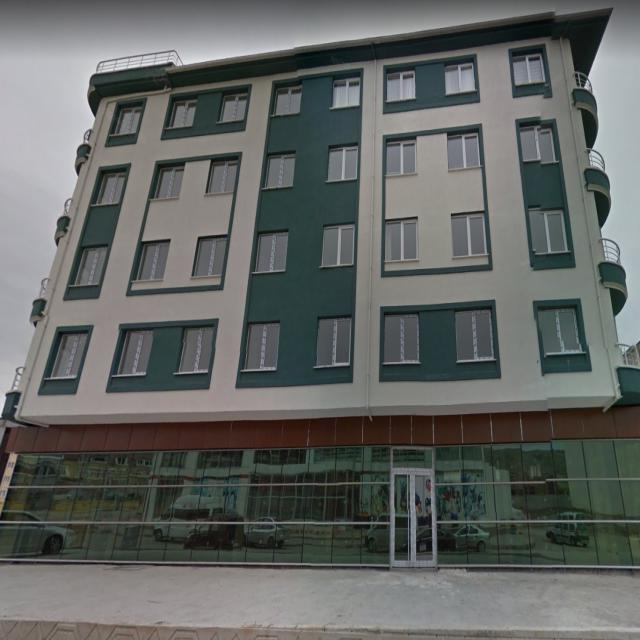Building: (0, 8, 640, 574)
